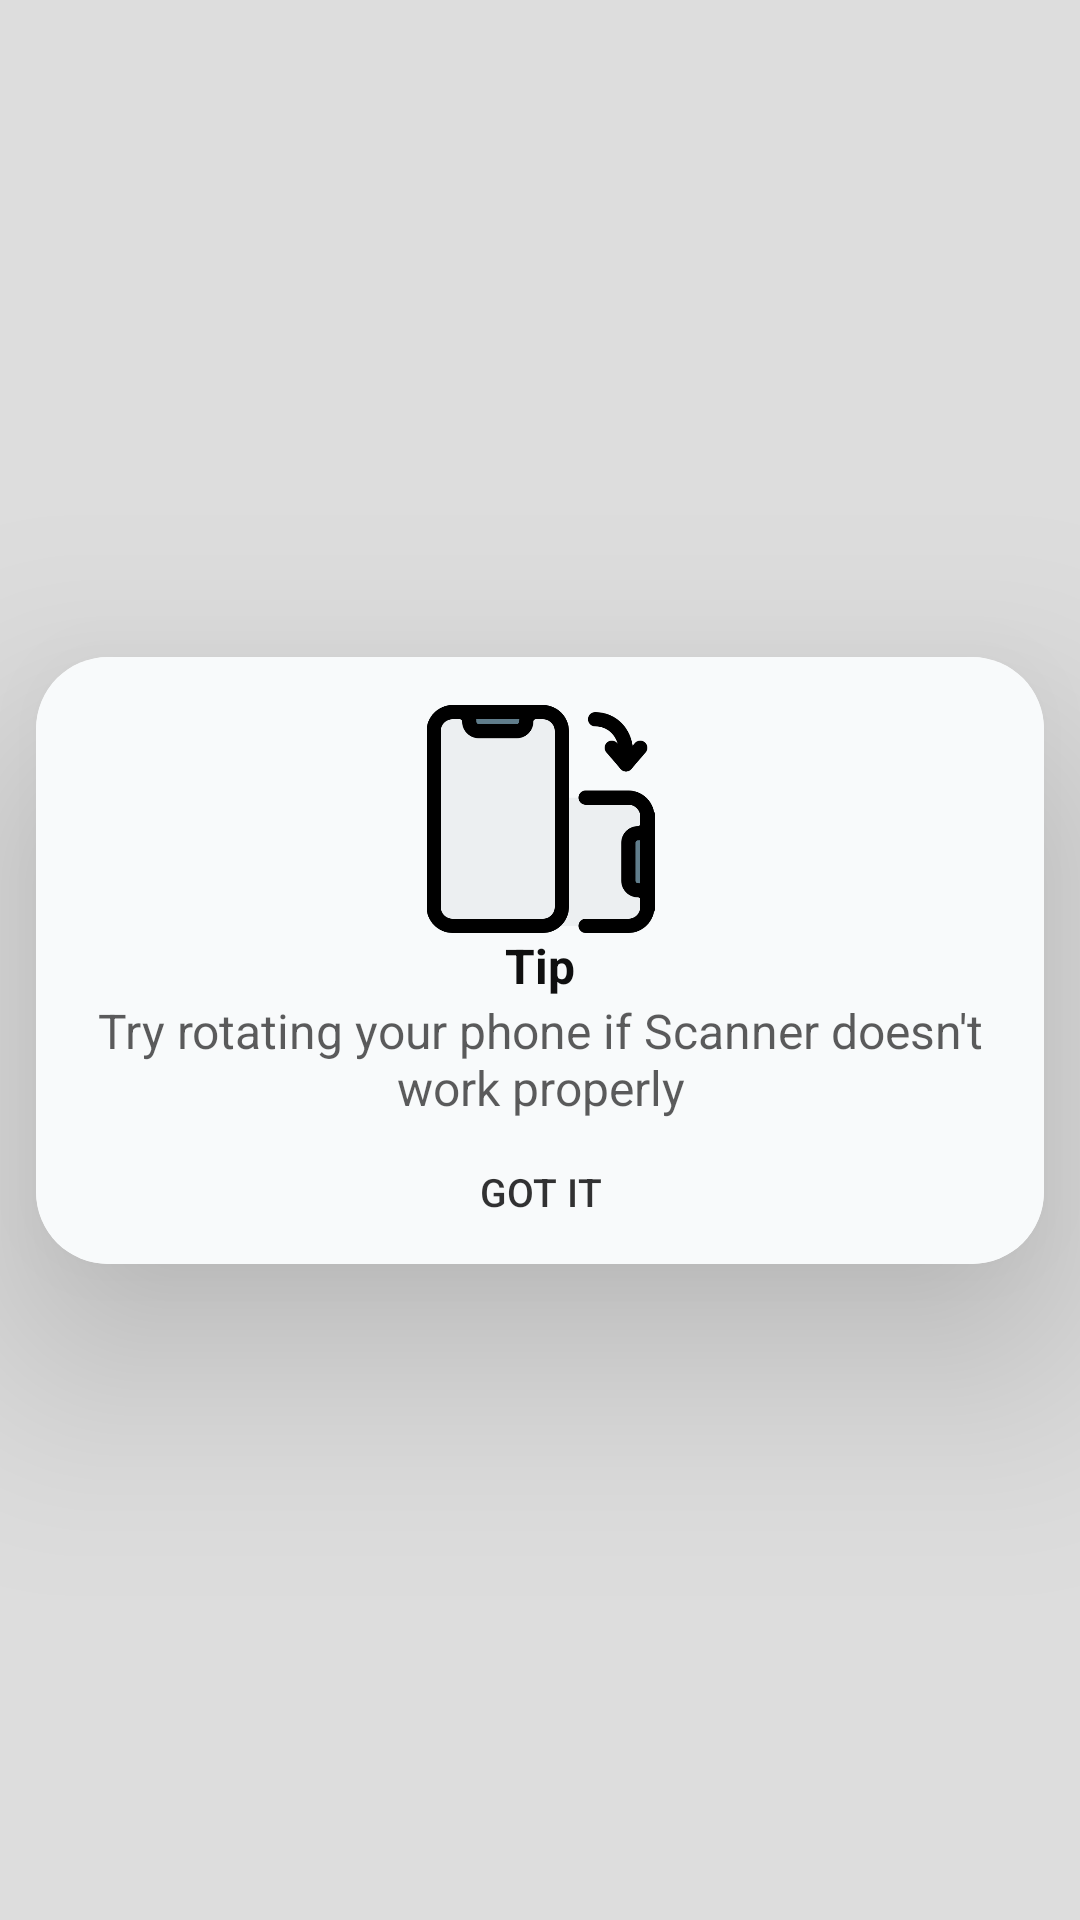

Screen size 1080 x 1920. Icon name, then its center in pixels as (x,y):
rotate: (541,819)
